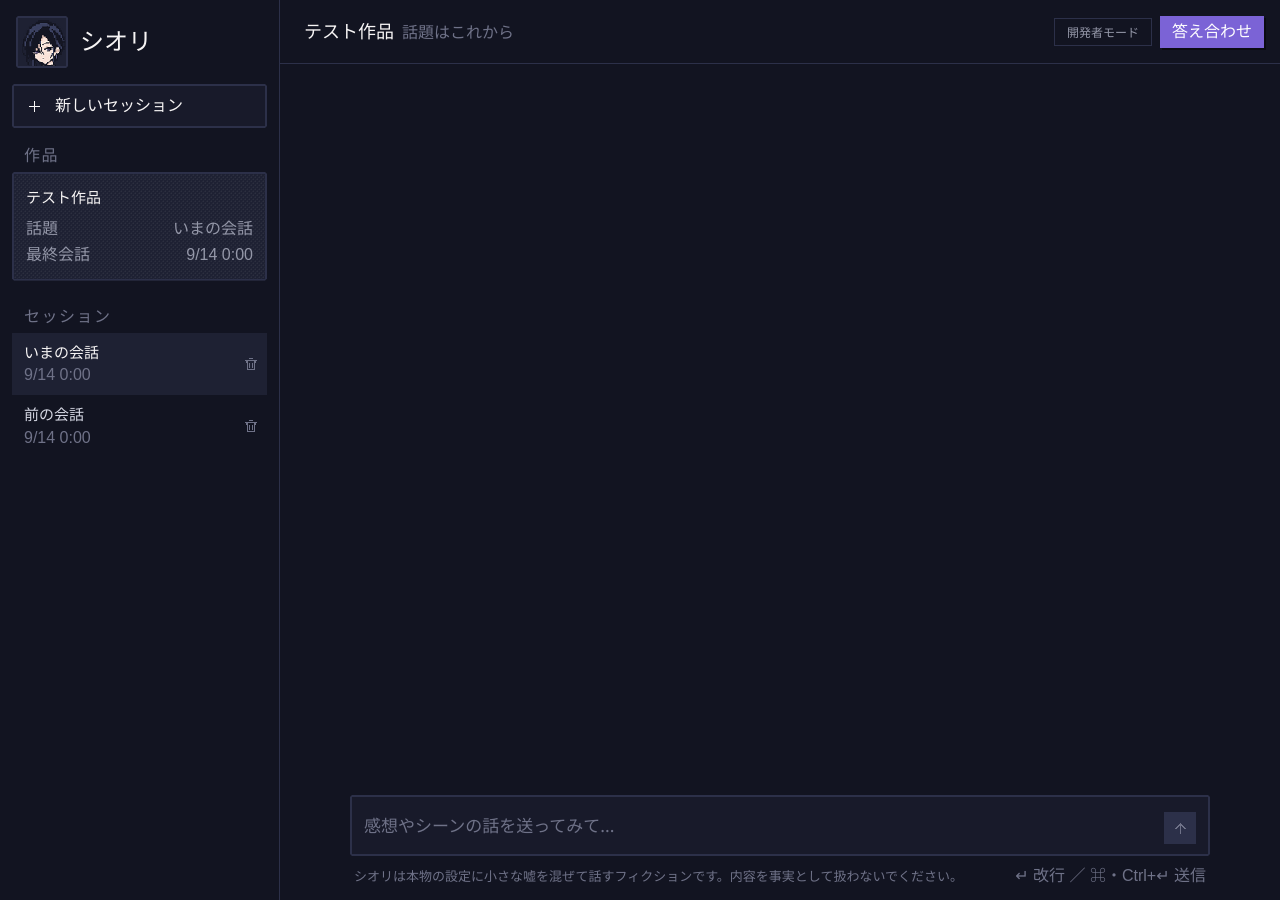
Test: ChatApp: 過去のセッションの削除 › Esc・背景のクリックでは消さずに閉じる
The image size is (1280, 900).
Click the button named "「前の会話」のセッションを削除" at (251, 426), box [239,414,263,438]
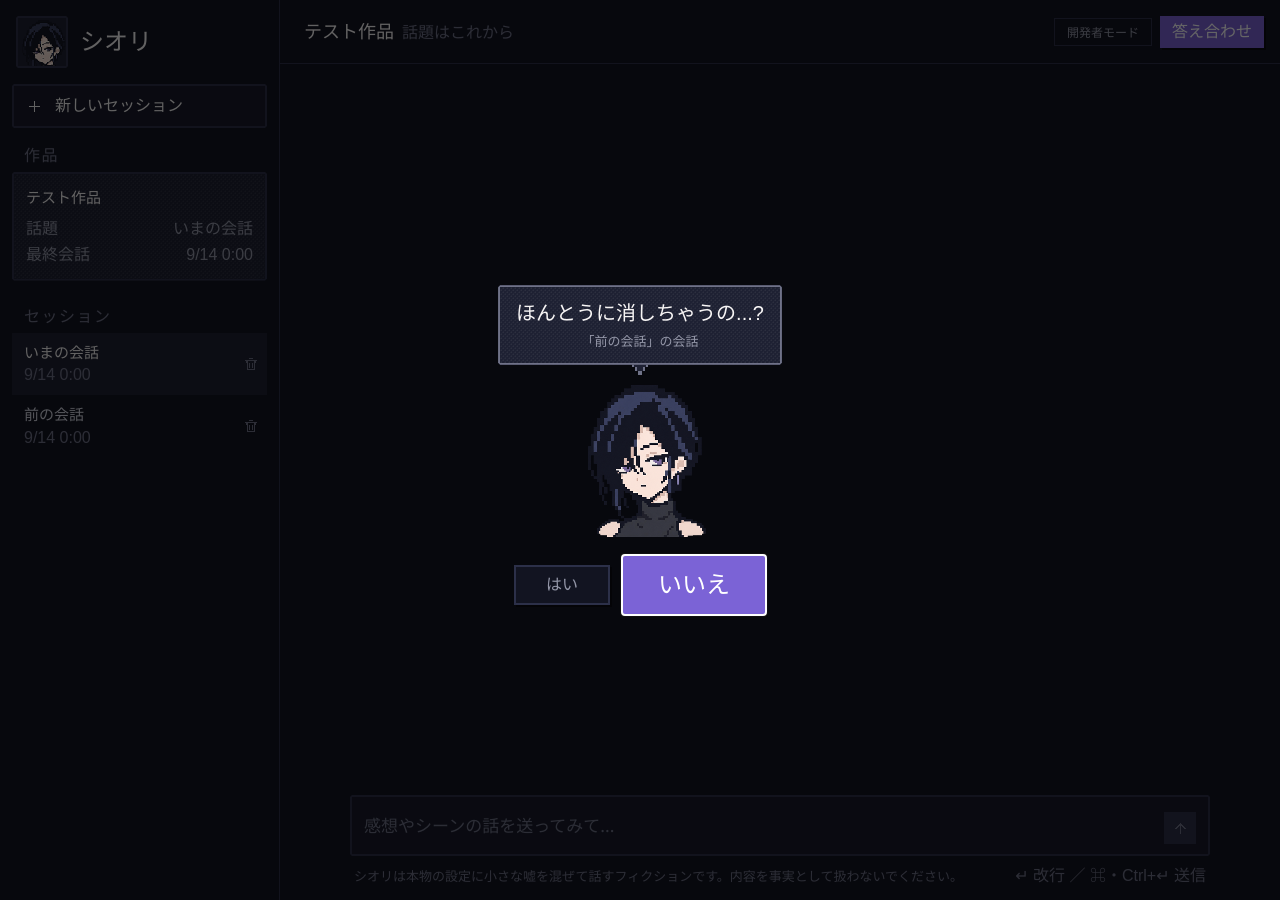
Press Escape
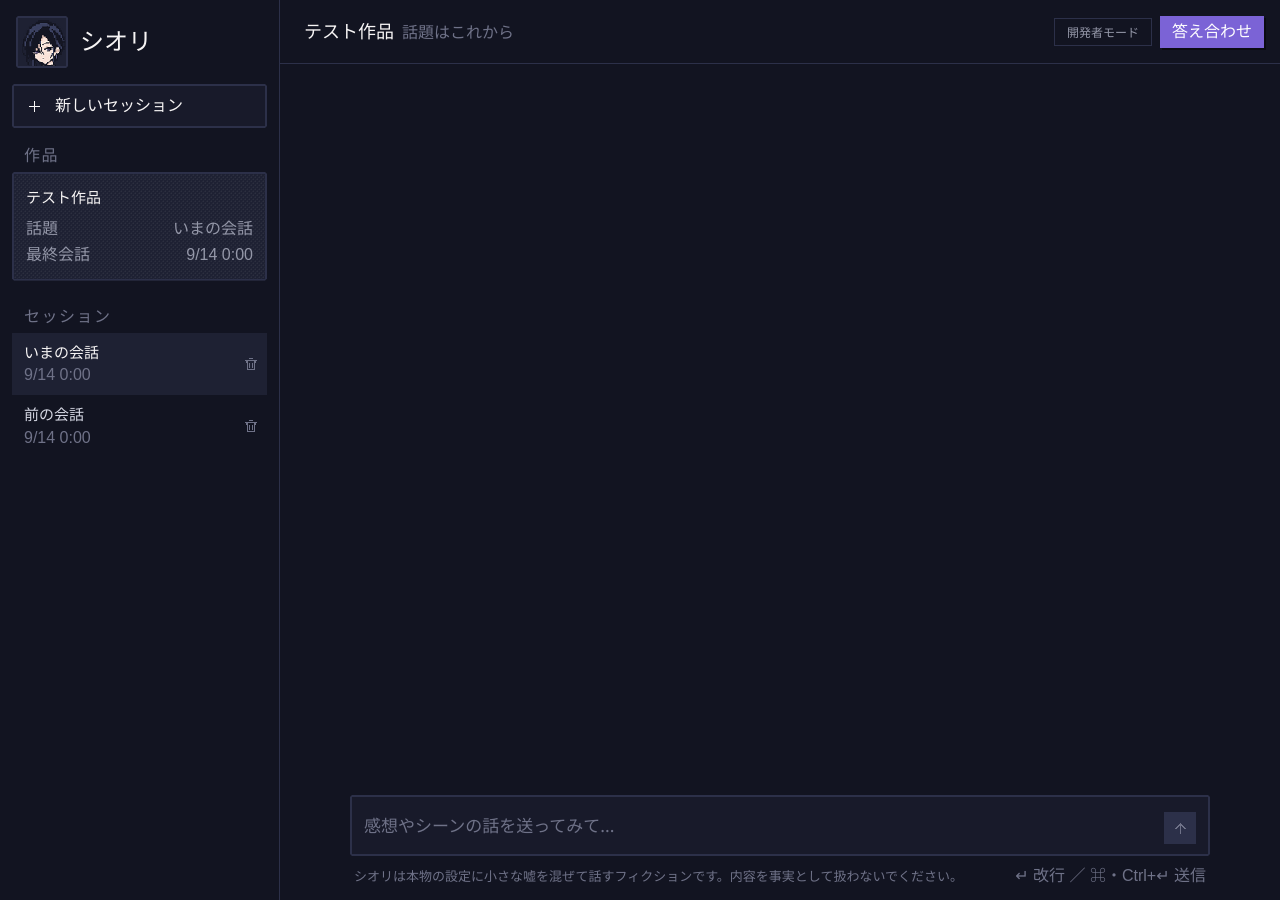
Result: the dialog is gone
Click the button named "「前の会話」のセッションを削除" at (251, 426), box [239,414,263,438]
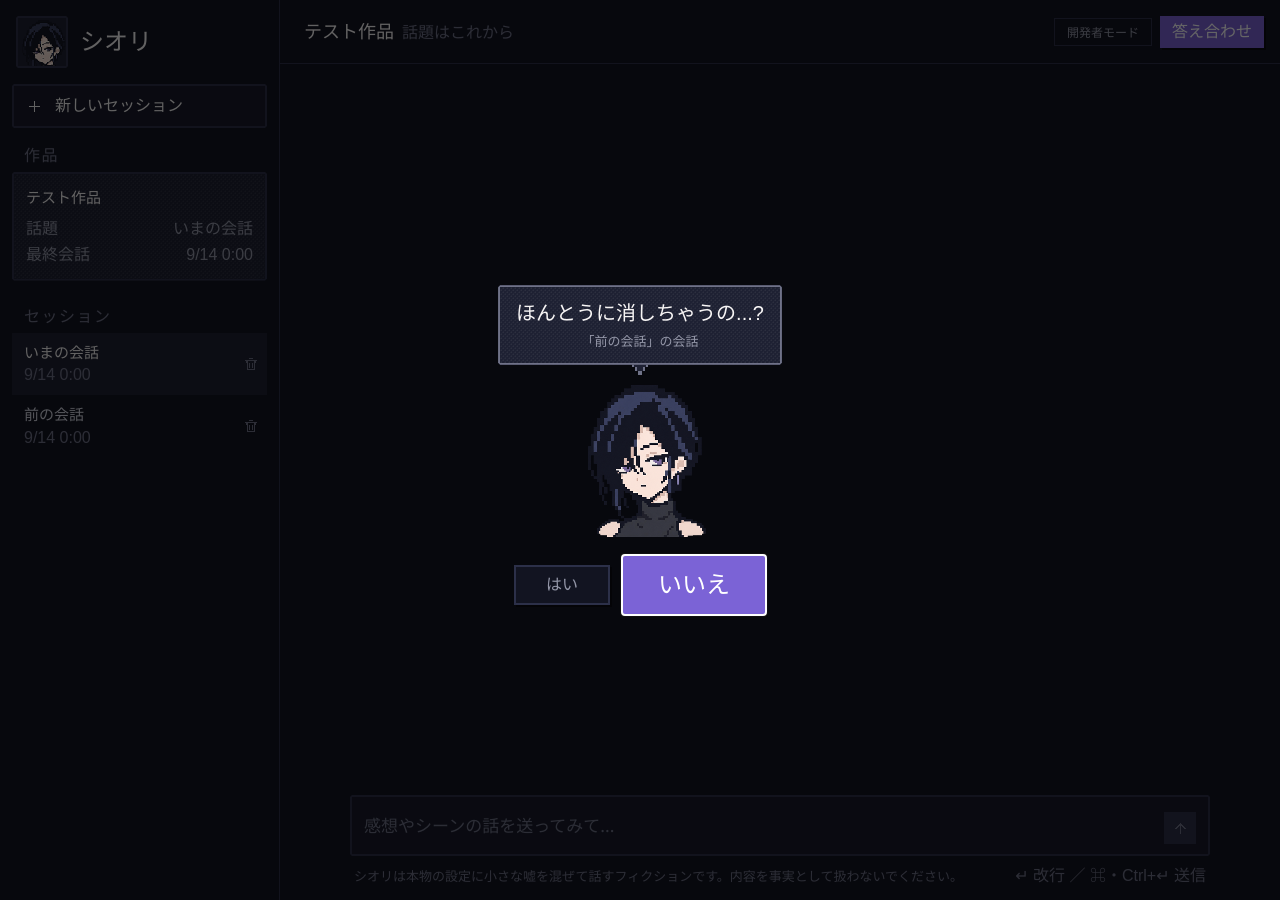
Click the element showing "ほんとうに消しちゃうの...? 「前の会話」の会話 はい いいえ" at (77, 450), box [0,0,1279,899]
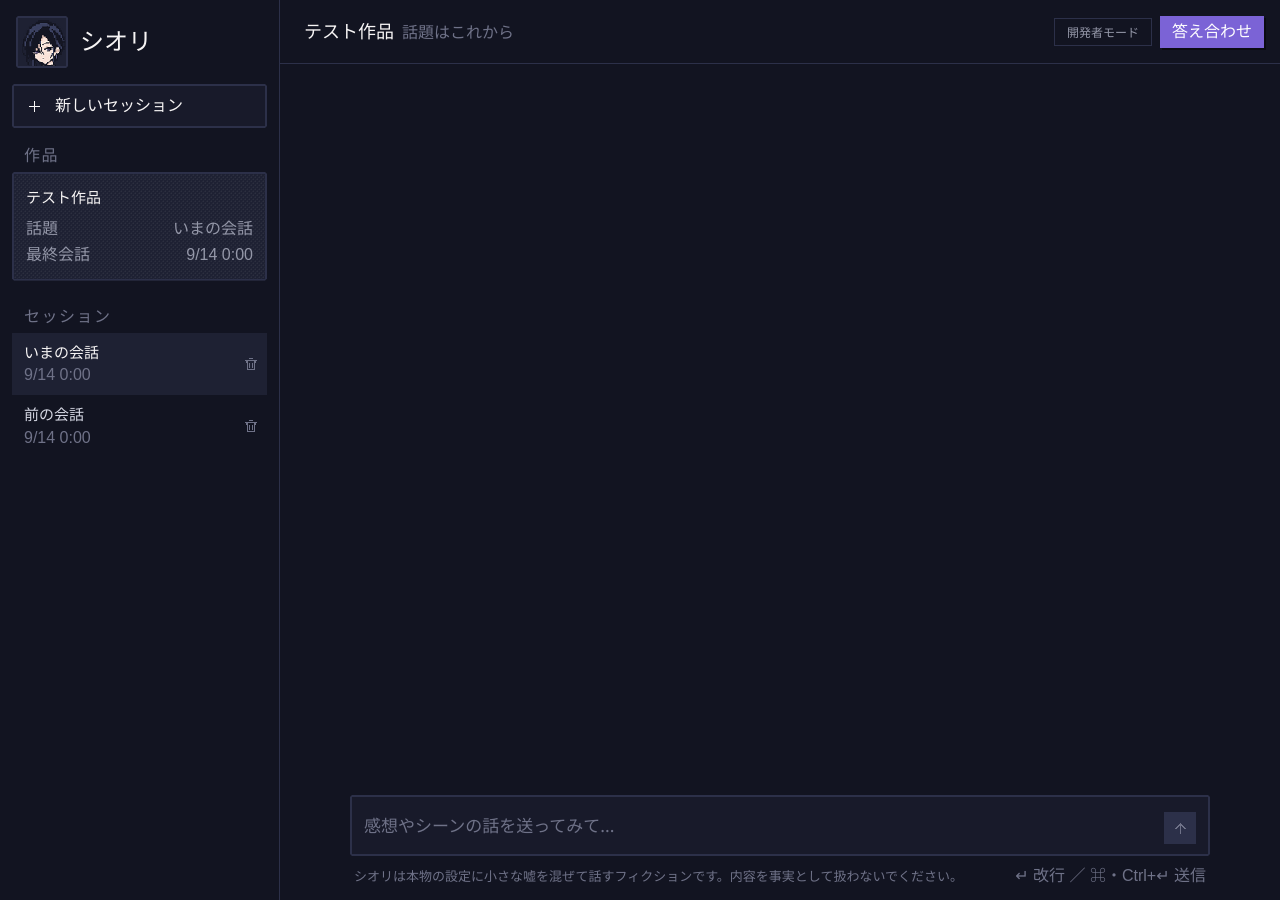
Expected: the button named "「前の会話」のセッションを削除" is shown, [239,414,263,438]
Result: the dialog is gone
